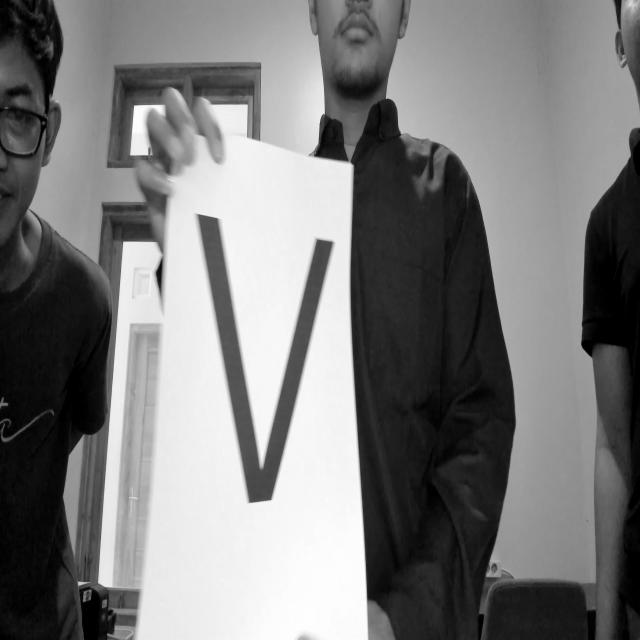v: (183, 182, 349, 528)
